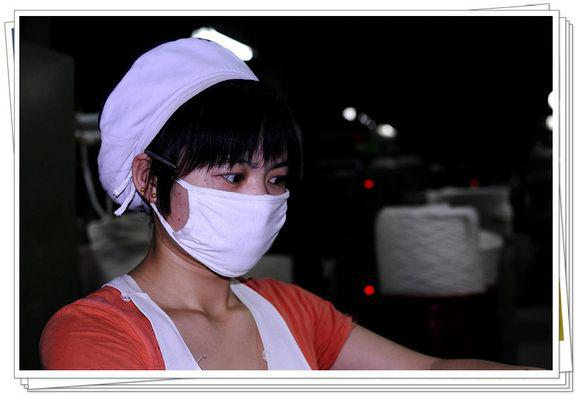OK: (164, 151, 290, 277)
